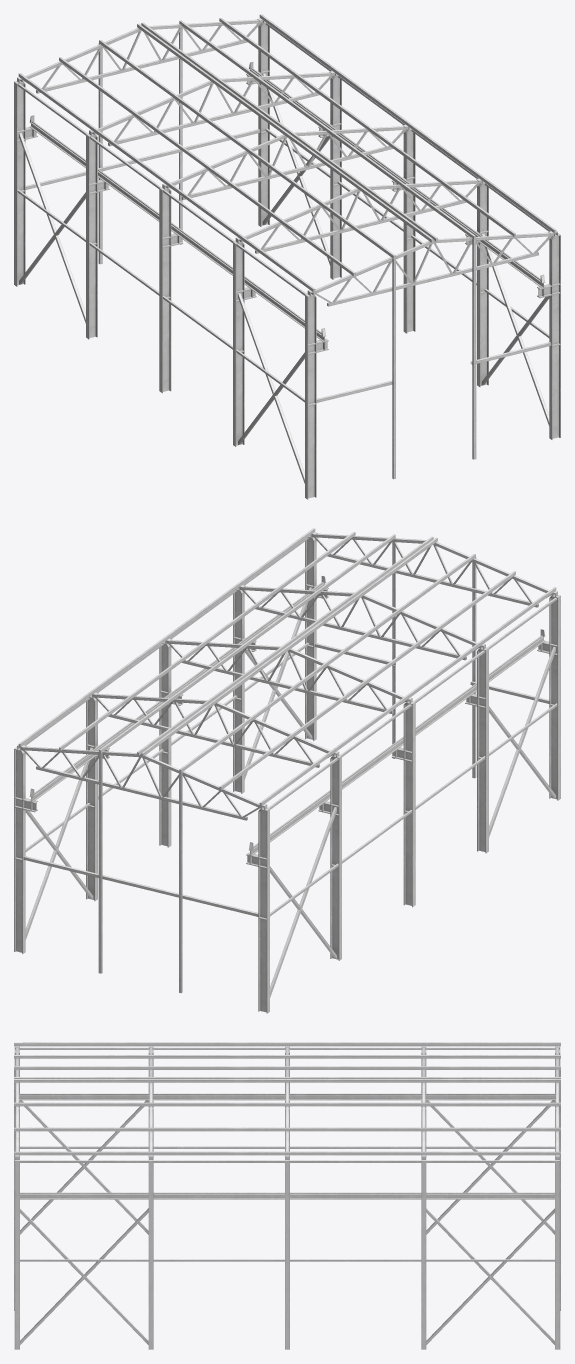
Rendered from truss.FBX.
3 views of the same model, one above another, from view 1: azimuth 30°, elevation 25°; view 2: azimuth 150°, elevation 25°; view 3: azimuth 270°, elevation 25° (orthographic). The views are drawn at different scales.
Parts seen in each view (by area): view 1: truss; view 2: truss; view 3: truss.
Part boxes in pixels (x1,y1,x2,y2): truss: (14, 14, 560, 499); truss: (14, 528, 560, 1013); truss: (14, 1042, 560, 1349).
Size of the model in its own units: 990 by 860 by 1996.
